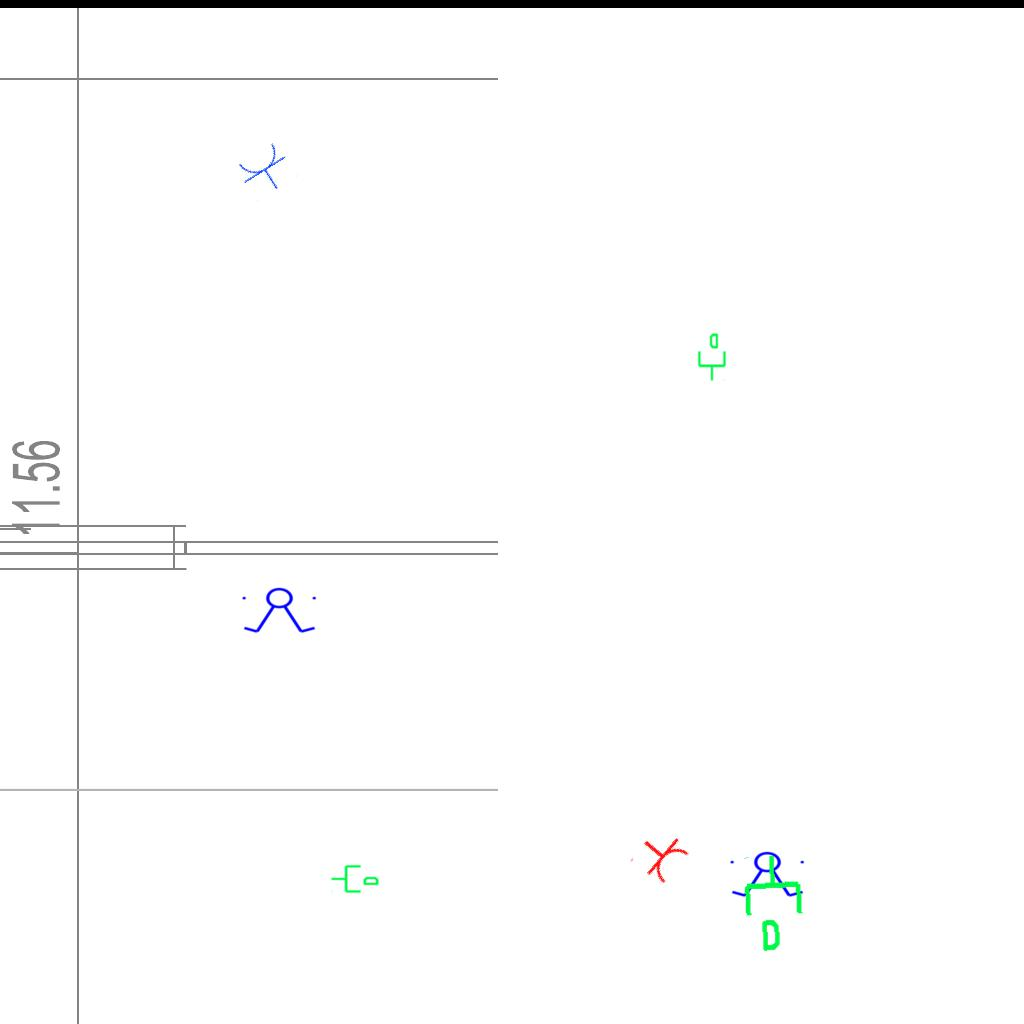Datenanschluss_einfach: (738, 851, 813, 955), (330, 861, 380, 895), (694, 332, 728, 382)
Schukosteckdose_einfach: (627, 823, 694, 889), (233, 139, 299, 202)
Serienschalter: (238, 587, 322, 635), (726, 851, 810, 899)
